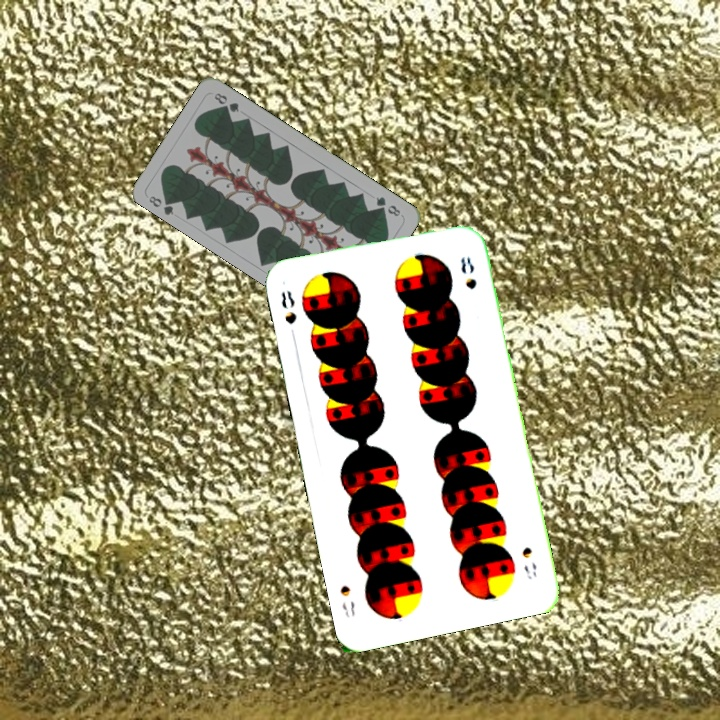G8: (145, 192, 177, 218), (372, 193, 403, 219)
S8: (277, 286, 300, 327), (518, 543, 540, 582)
